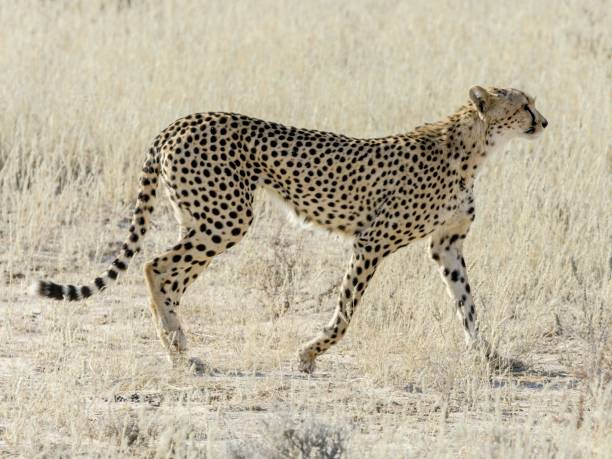cheetah: (458, 76, 554, 152)
